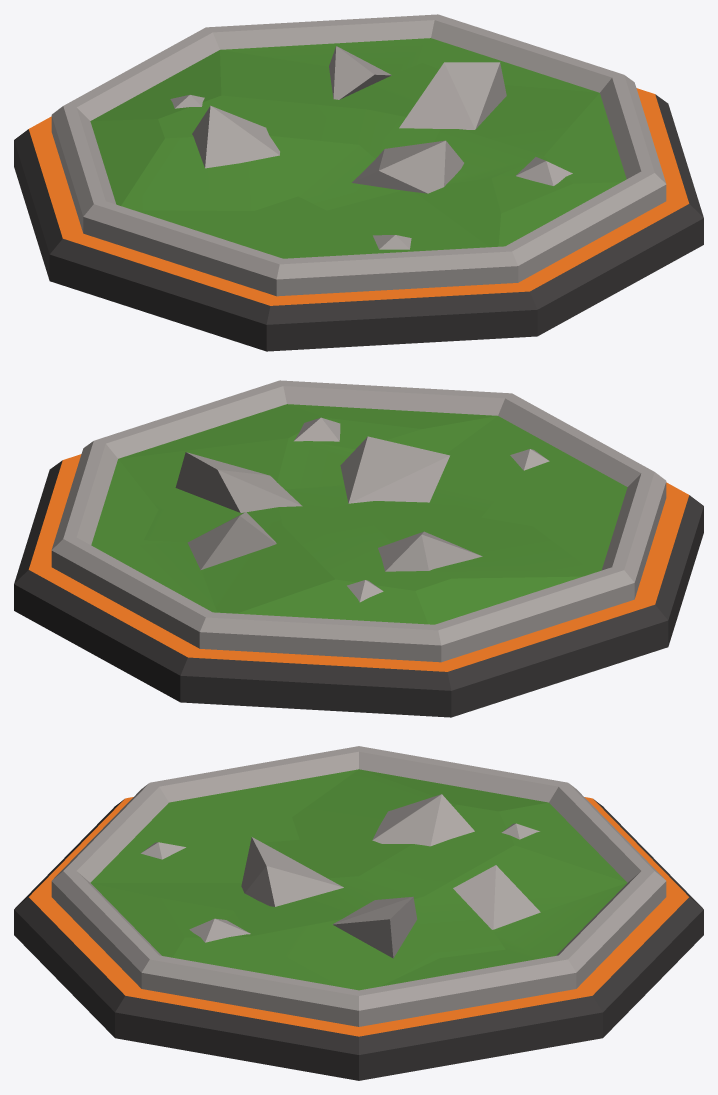
Rendered from scifi_scifi-pot-low-empty.fbx.
The picture shows the model from 3 angles, top to bottom: view 1: azimuth 30°, elevation 25°; view 2: azimuth 150°, elevation 25°; view 3: azimuth 270°, elevation 25°; orthographic projection. The views are drawn at different scales.
Parts seen in each view (by area): view 1: scifi_scifi_pot_low_empty; view 2: scifi_scifi_pot_low_empty; view 3: scifi_scifi_pot_low_empty.
Part boxes in pixels (x1,y1,x2,y2): scifi_scifi_pot_low_empty: [14, 14, 703, 351]; scifi_scifi_pot_low_empty: [14, 380, 703, 717]; scifi_scifi_pot_low_empty: [14, 746, 703, 1080].
Size of the model in its own units: 200 by 29.71 by 200.
